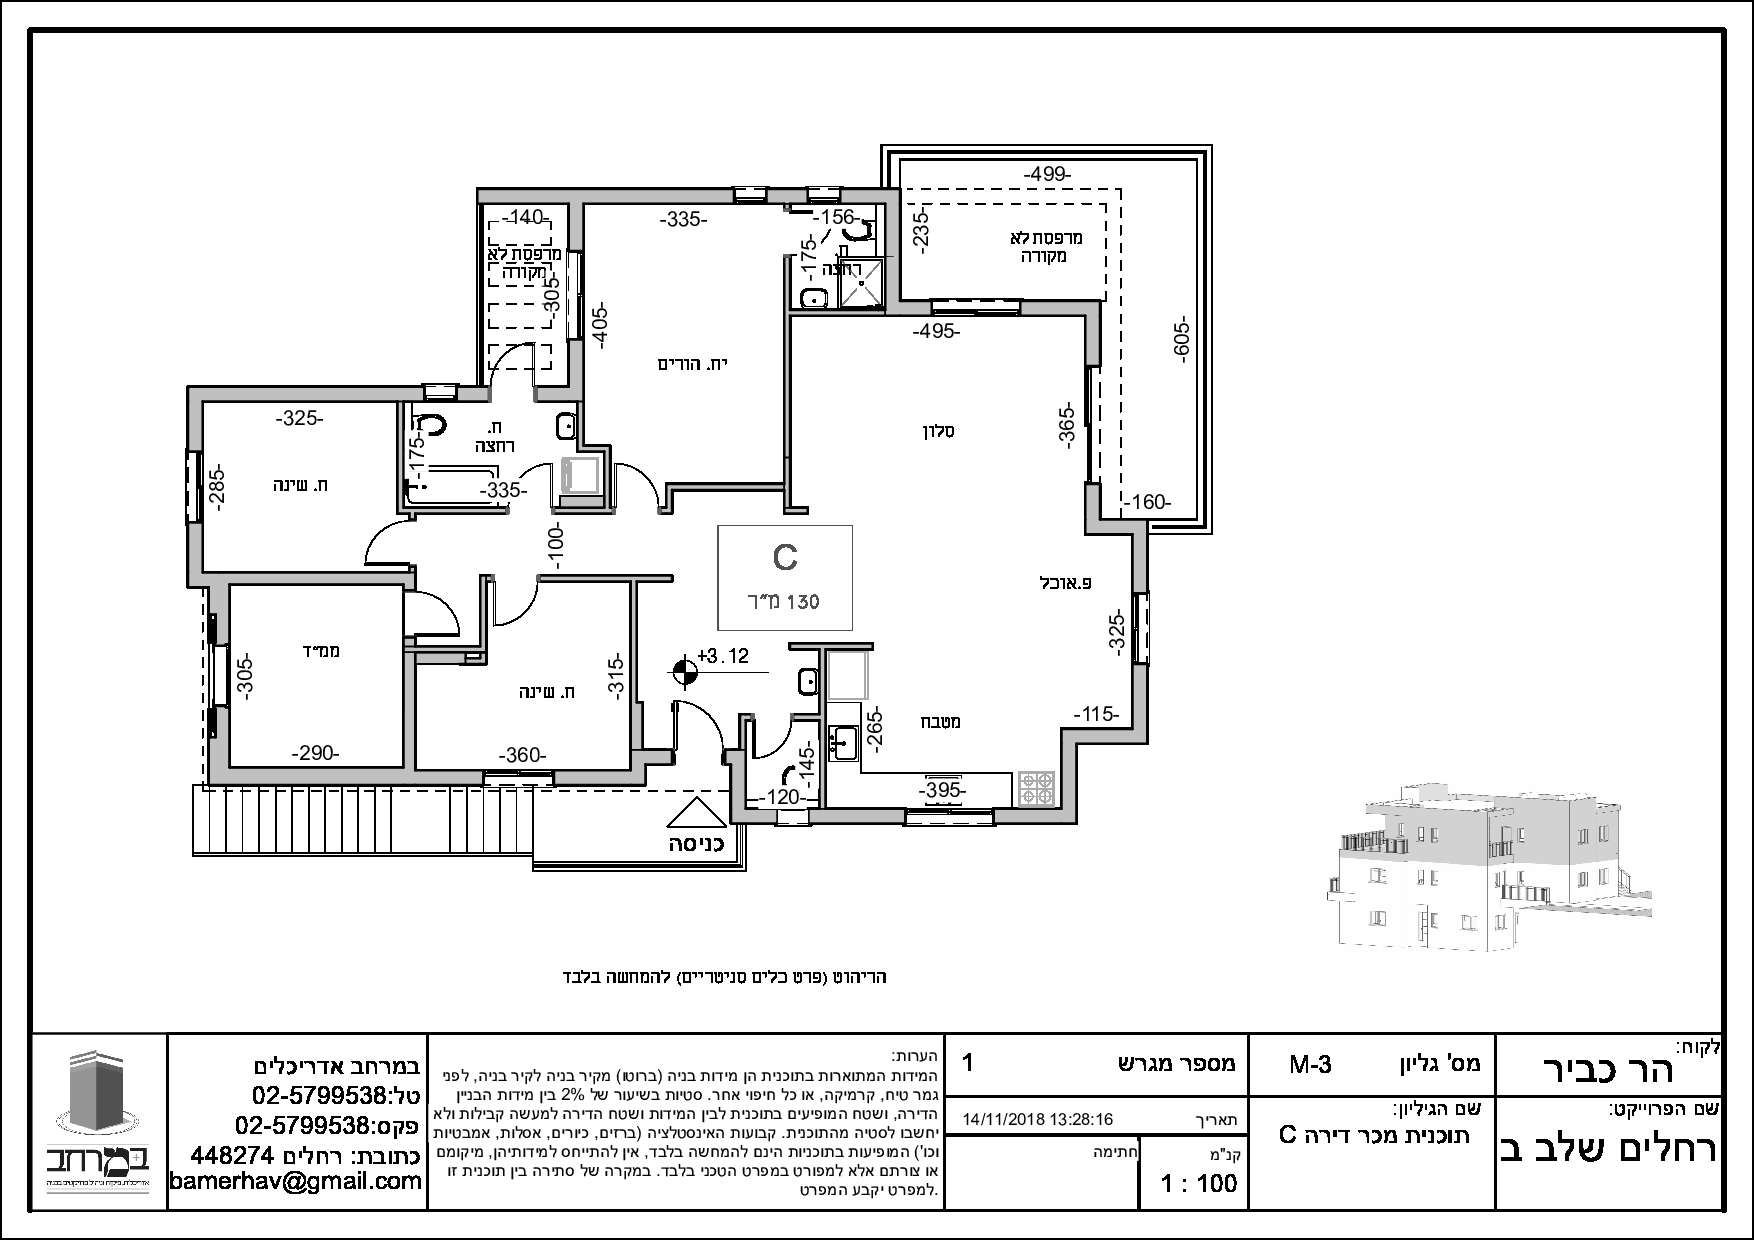door: (671, 696, 725, 747), (490, 582, 544, 631), (362, 515, 407, 569), (417, 589, 463, 639), (612, 462, 663, 506), (750, 722, 794, 761)
